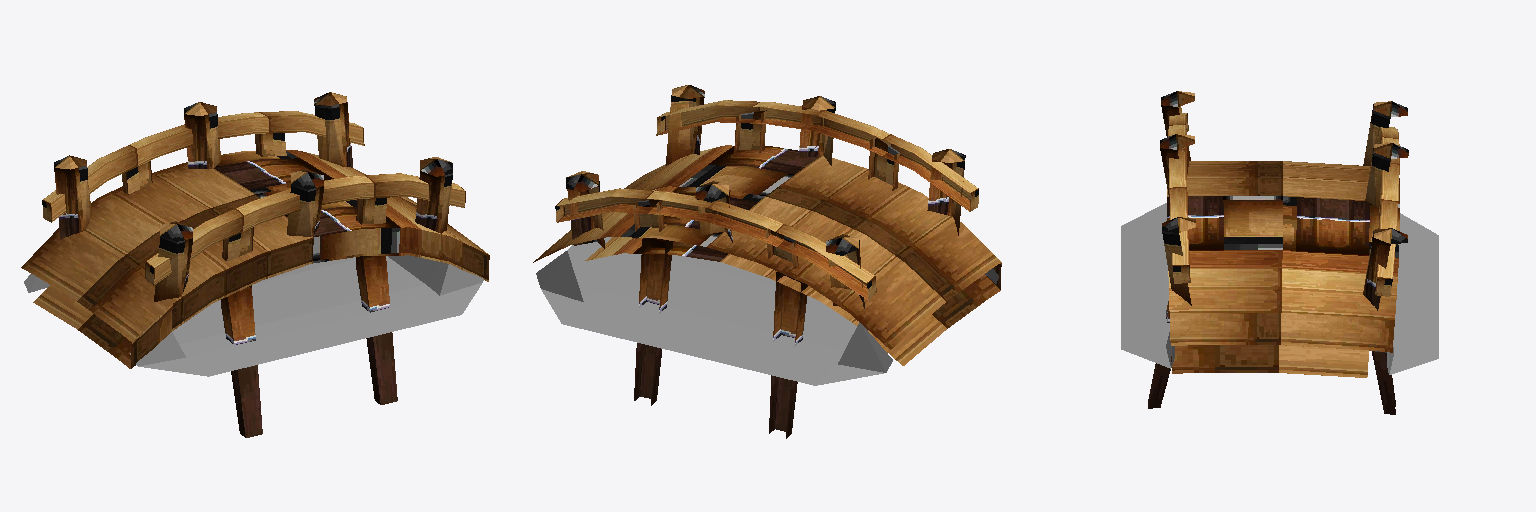
3 renders of one model, left to right at view 1: azimuth 30°, elevation 25°; view 2: azimuth 150°, elevation 25°; view 3: azimuth 270°, elevation 25°, orthographic.
Parts seen in each view (by area): view 1: vsn_mesh_0__mesh_0_.008, vsn_mesh_1__mesh_1_.007; view 2: vsn_mesh_0__mesh_0_.008, vsn_mesh_1__mesh_1_.007; view 3: vsn_mesh_0__mesh_0_.008, vsn_mesh_1__mesh_1_.007.
Part boxes in pixels (bbox=[...]): vsn_mesh_0__mesh_0_.008: bbox=[21, 92, 489, 437]; vsn_mesh_1__mesh_1_.007: bbox=[24, 255, 483, 376]; vsn_mesh_0__mesh_0_.008: bbox=[533, 85, 1001, 438]; vsn_mesh_1__mesh_1_.007: bbox=[536, 237, 998, 385]; vsn_mesh_0__mesh_0_.008: bbox=[1148, 91, 1408, 414]; vsn_mesh_1__mesh_1_.007: bbox=[1121, 203, 1438, 374].
Size of the model in its own units: 146 by 95.51 by 113.
2 materials, 1 textured.